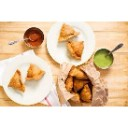samosa: (7, 68, 25, 91), (59, 22, 81, 40), (67, 38, 85, 59), (27, 64, 45, 80), (70, 65, 87, 81), (82, 83, 92, 102)
